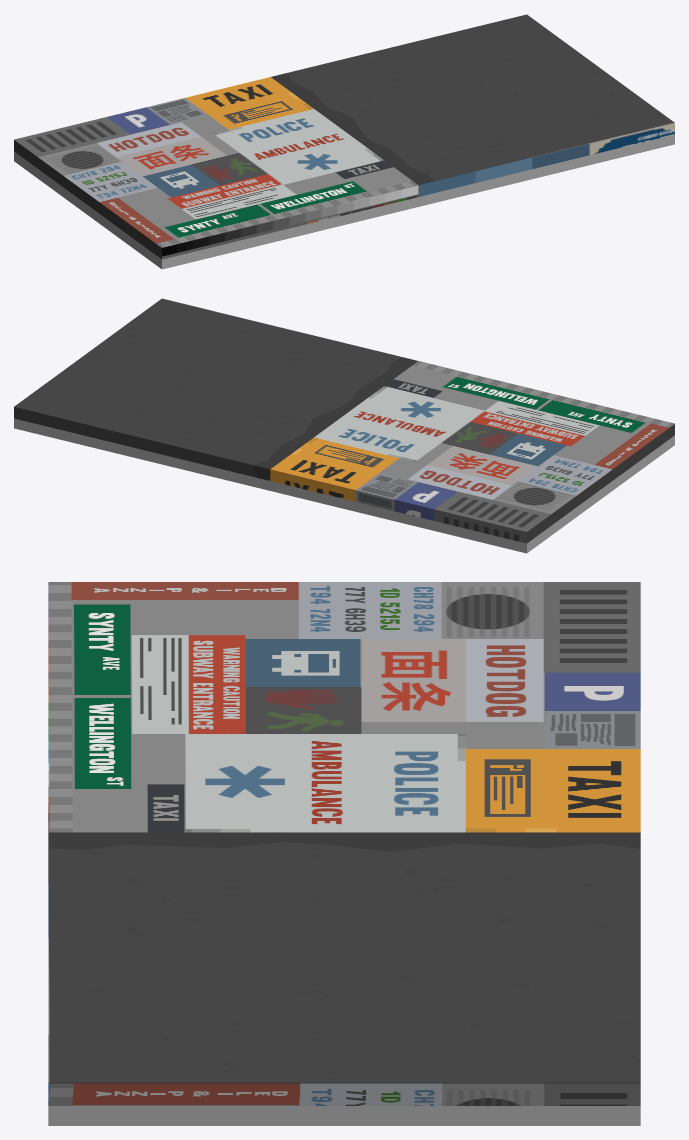
The model's file is SM_Bld_Base_Floor_Half_01.glb.
3 views of the same model, one above another, from view 1: azimuth 30°, elevation 25°; view 2: azimuth 150°, elevation 25°; view 3: azimuth 270°, elevation 25° (orthographic). The views are drawn at different scales.
Parts seen in each view (by area): view 1: SM_Bld_Base_Floor_Half_01; view 2: SM_Bld_Base_Floor_Half_01; view 3: SM_Bld_Base_Floor_Half_01.
Part boxes in pixels (bbox=[...]): SM_Bld_Base_Floor_Half_01: bbox=[14, 14, 674, 269]; SM_Bld_Base_Floor_Half_01: bbox=[14, 298, 674, 553]; SM_Bld_Base_Floor_Half_01: bbox=[48, 582, 640, 1125].
Size of the model in its own units: 2.5 by 0.1006 by 1.25.
2 materials, 1 textured.
